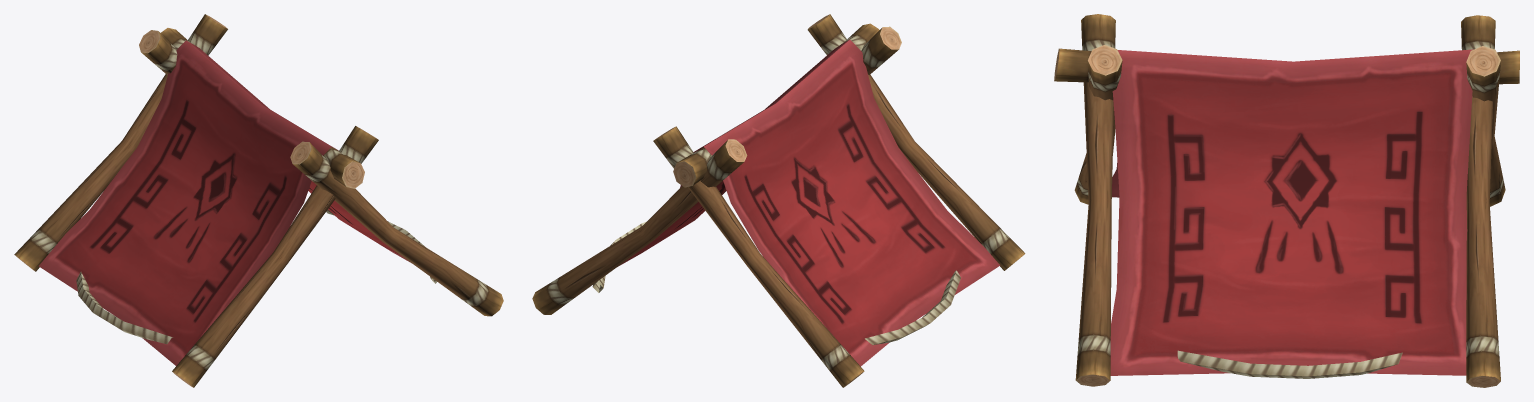
File: tent_red_01.fbx
3 views of the same model, side by side, from view 1: azimuth 30°, elevation 25°; view 2: azimuth 150°, elevation 25°; view 3: azimuth 270°, elevation 25° (orthographic). The views are drawn at different scales.
Parts seen in each view (by area): view 1: tent_red_01:Mesh; view 2: tent_red_01:Mesh; view 3: tent_red_01:Mesh.
Boxes of the visible parts, box(x1,y1,x2,y2) form: tent_red_01:Mesh: box(14, 14, 503, 387); tent_red_01:Mesh: box(532, 14, 1025, 387); tent_red_01:Mesh: box(1054, 14, 1519, 387).
Bounding box in the file's own units: 4.79 × 3 × 4.72.
